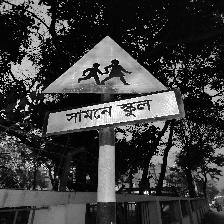School-in-front: (41, 36, 184, 137)
